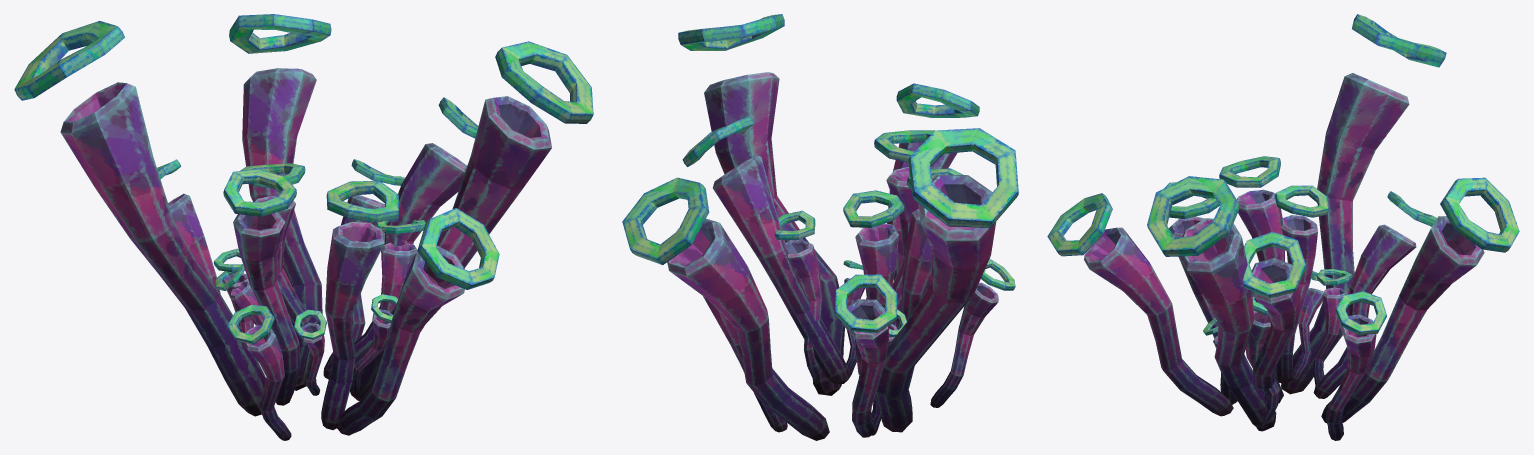
The model's file is P_TrumpetV2.fbx.
3 views of the same model, side by side, from view 1: azimuth 30°, elevation 25°; view 2: azimuth 150°, elevation 25°; view 3: azimuth 270°, elevation 25° (orthographic). The views are drawn at different scales.
Parts seen in each view (by area): view 1: Trumpet .005; view 2: Trumpet .005; view 3: Trumpet .005.
Part boxes in pixels (x1,y1,x2,y2): Trumpet .005: (14, 14, 593, 440); Trumpet .005: (622, 14, 1018, 440); Trumpet .005: (1047, 14, 1519, 440).
Bounding box in the file's own units: 91.31 × 72.98 × 95.02.
